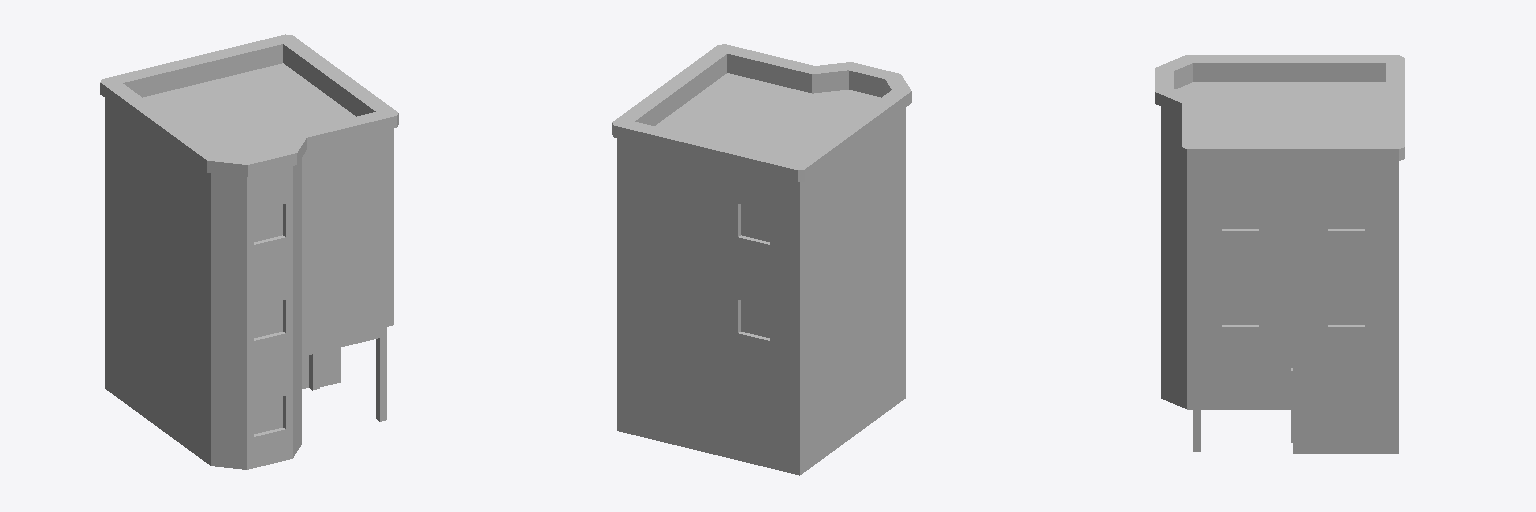
File: buildingC.obj
3 views of the same model, side by side, from view 1: azimuth 30°, elevation 25°; view 2: azimuth 150°, elevation 25°; view 3: azimuth 270°, elevation 25° (orthographic).
Parts seen in each view (by area): view 1: small_buildingC; view 2: small_buildingC; view 3: small_buildingC.
Part boxes in pixels (left/top/right/bottom): small_buildingC: left=100, top=34, right=398, bottom=469; small_buildingC: left=612, top=44, right=911, bottom=475; small_buildingC: left=1155, top=55, right=1404, bottom=453.
Bounding box in the file's own units: 5.04 × 7.68 × 5.64.